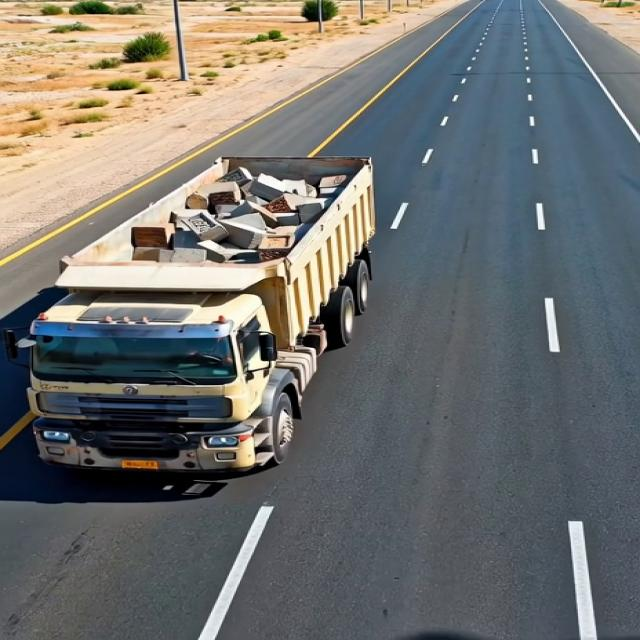trailer: (53, 158, 373, 296)
truck: (11, 157, 402, 475)
